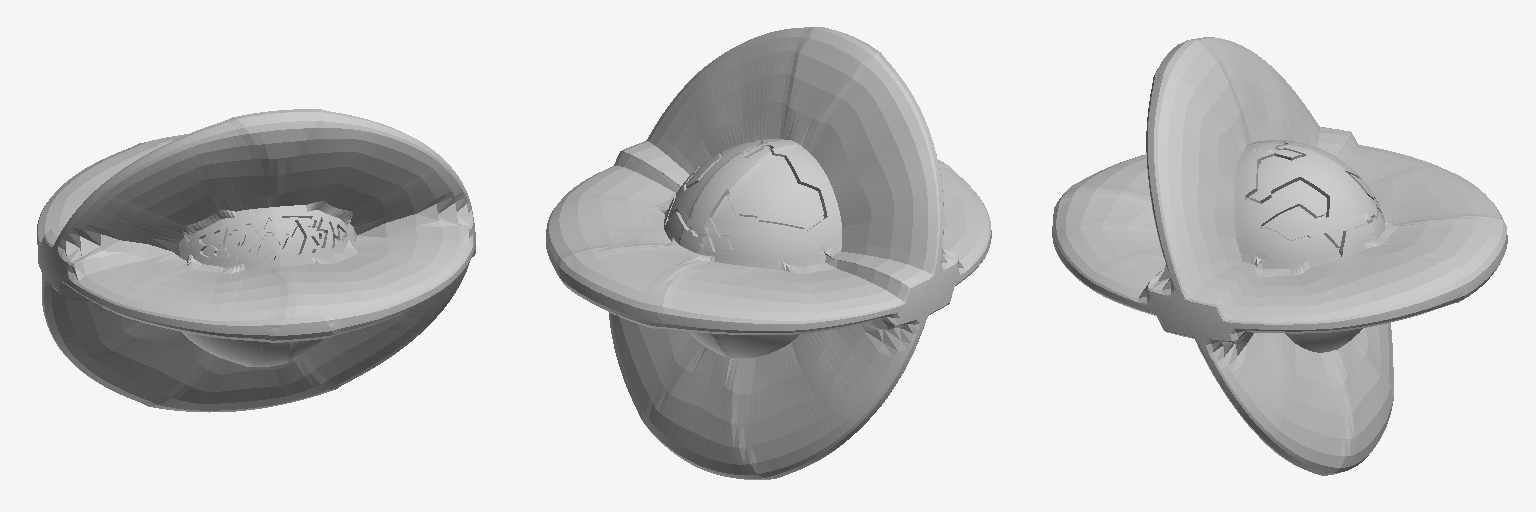
The model's file is SciFiSphereThingAlpha.obj.
3 renders of one model, left to right at view 1: azimuth 30°, elevation 25°; view 2: azimuth 150°, elevation 25°; view 3: azimuth 270°, elevation 25°, orthographic.
Visible parts, largest first — view 1: Icosphere; view 2: Icosphere; view 3: Icosphere.
Boxes of the visible parts, x1,y1,x2,y2 form: Icosphere: [37, 109, 475, 412]; Icosphere: [546, 27, 991, 479]; Icosphere: [1052, 37, 1507, 475].
Size of the model in its own units: 7.65 by 7.23 by 7.92.